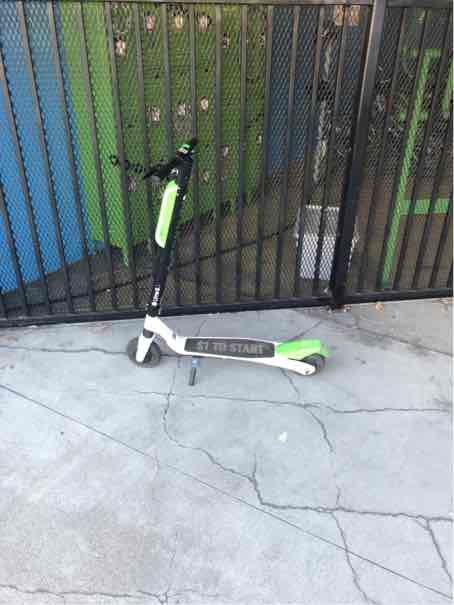scooter: (128, 131, 333, 377)
